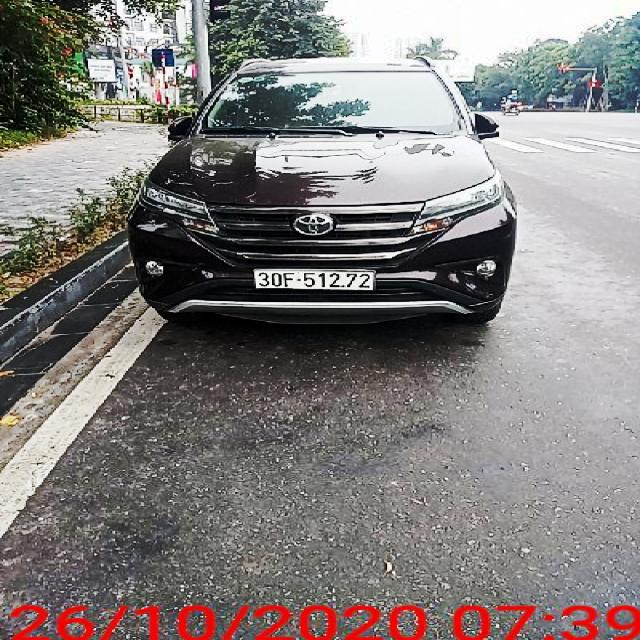license_plate: (254, 271, 377, 291)
